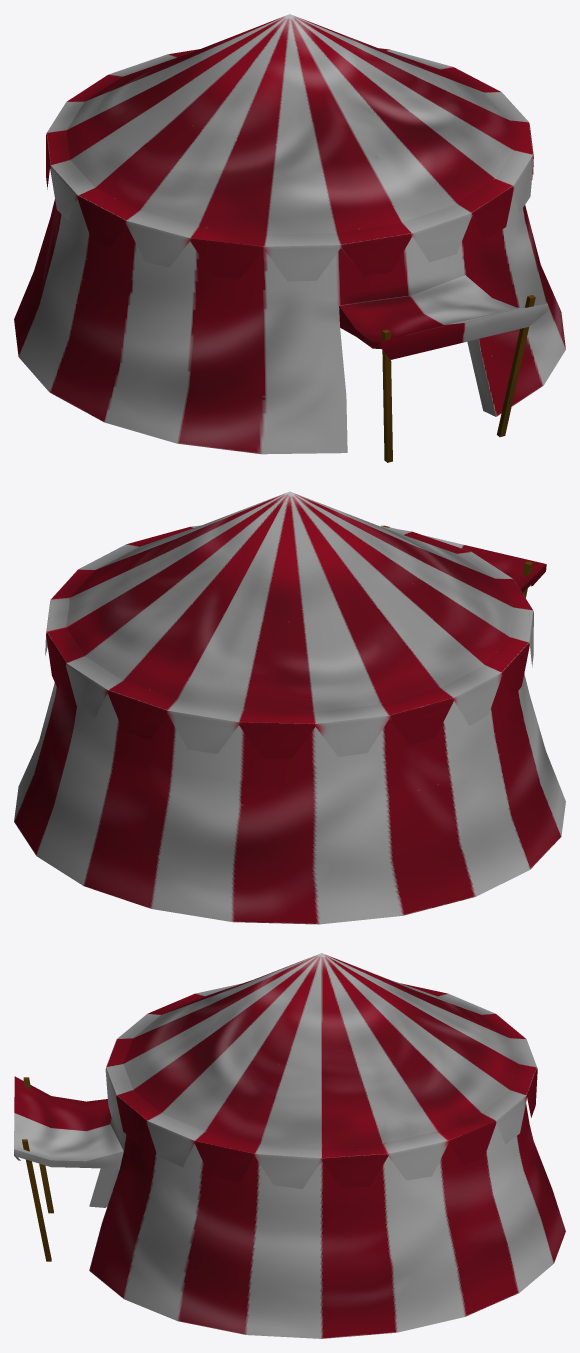
Rendered from tent.gltf.
The picture shows the model from 3 angles, top to bottom: view 1: azimuth 30°, elevation 25°; view 2: azimuth 150°, elevation 25°; view 3: azimuth 270°, elevation 25°; orthographic projection. The views are drawn at different scales.
Parts seen in each view (by area): view 1: pCylinder1, pCube3; view 2: pCylinder1; view 3: pCylinder1, pCube3.
Boxes of the visible parts, x1,y1,x2,y2 form: pCylinder1: [14, 14, 565, 454]; pCube3: [382, 295, 535, 462]; pCylinder1: [14, 491, 565, 924]; pCylinder1: [14, 953, 565, 1338]; pCube3: [22, 1077, 53, 1261].
Bounding box in the file's own units: 23.65 × 15.26 × 26.7.
Materials: 1 (1 with a texture image).
